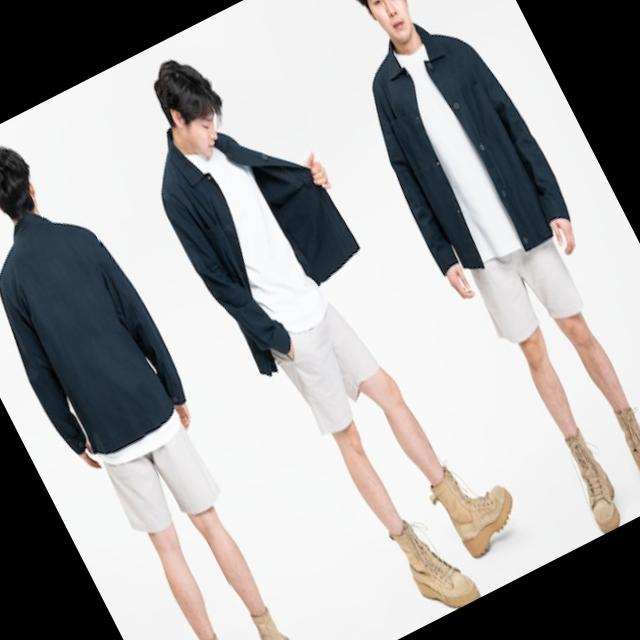Person: (104, 8, 546, 640), (297, 0, 640, 546), (0, 116, 333, 640)
